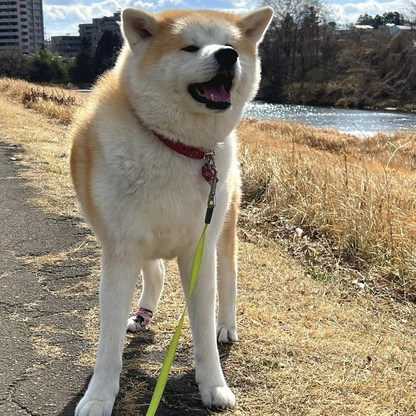akita: (61, 1, 281, 416)
